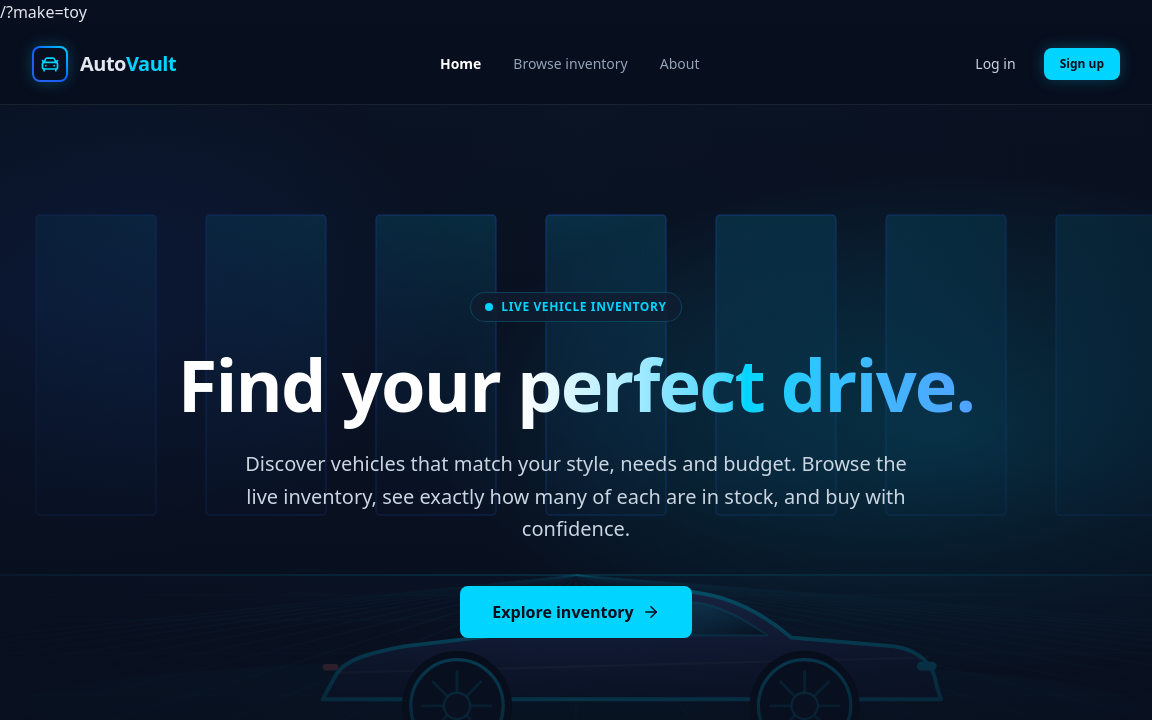
its header › takes the person to the login page and, once they are in, back to where they were
The image size is (1152, 720).
Click the link "Log in" at (995,64), box [975,54,1016,73]
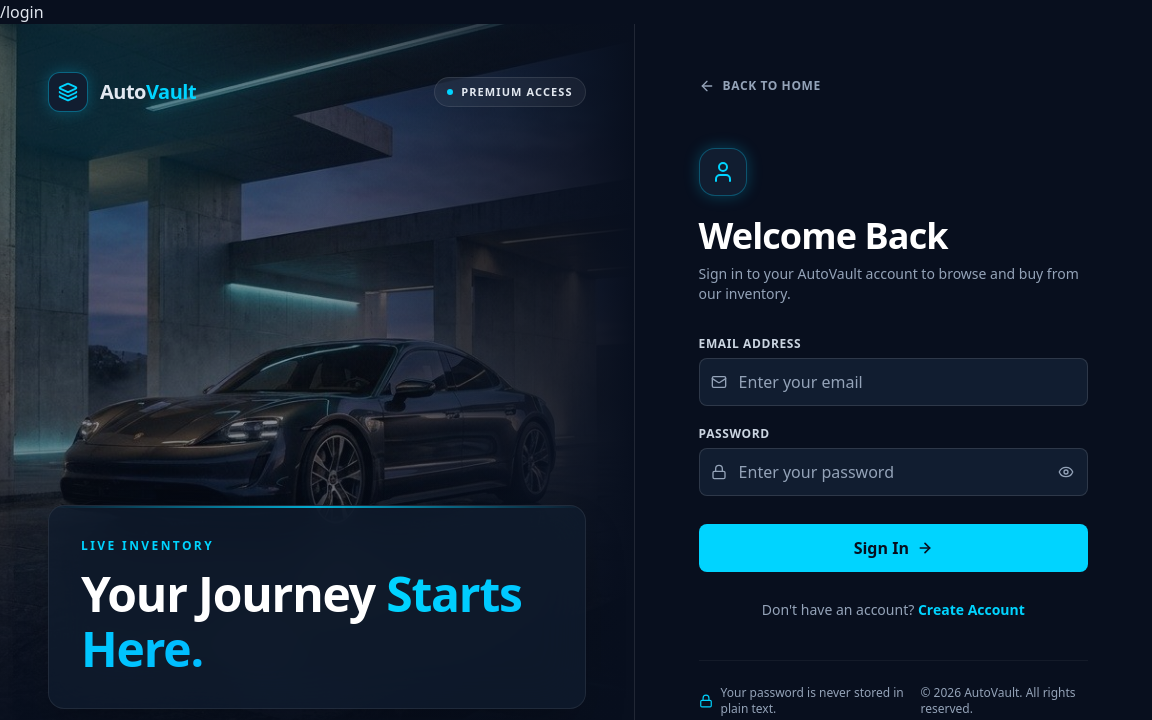
Type "jane@example.com" into the field labelled "Email address" at (893,382), box [699,358,1088,406]
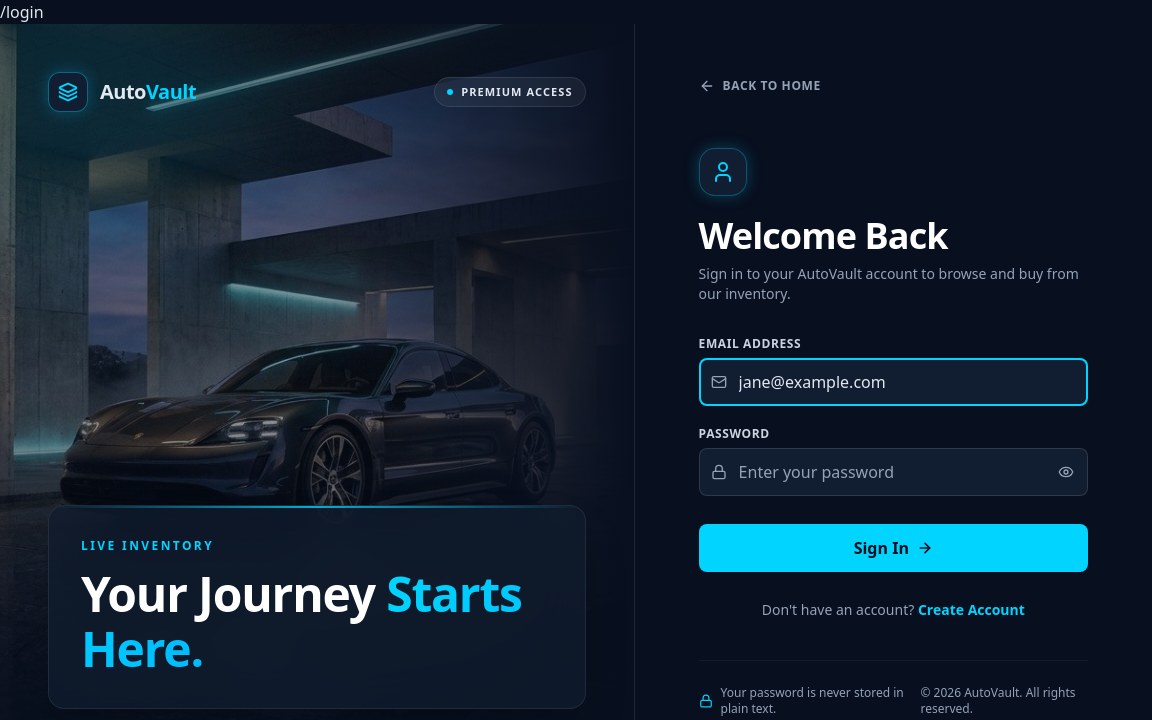
Type "Sup3rSecret!" into the password field labelled "Password" at (893,472), box [699,448,1088,496]
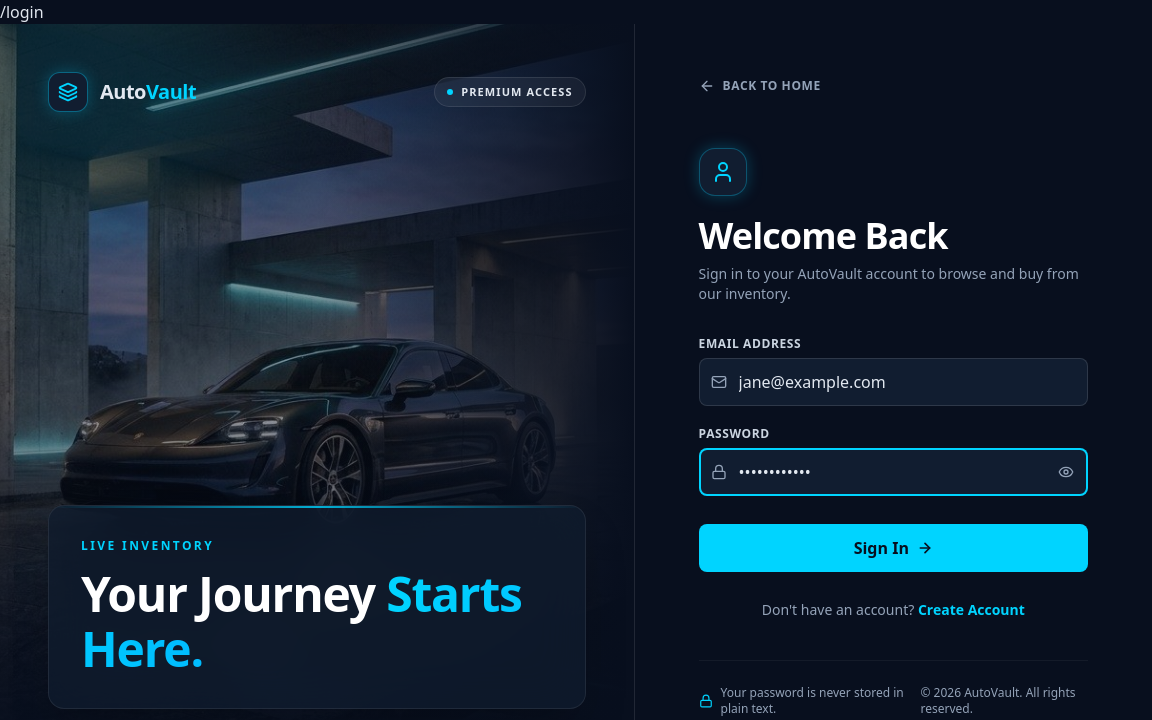
Click the button "Sign In" at (893,548), box [699,524,1088,572]
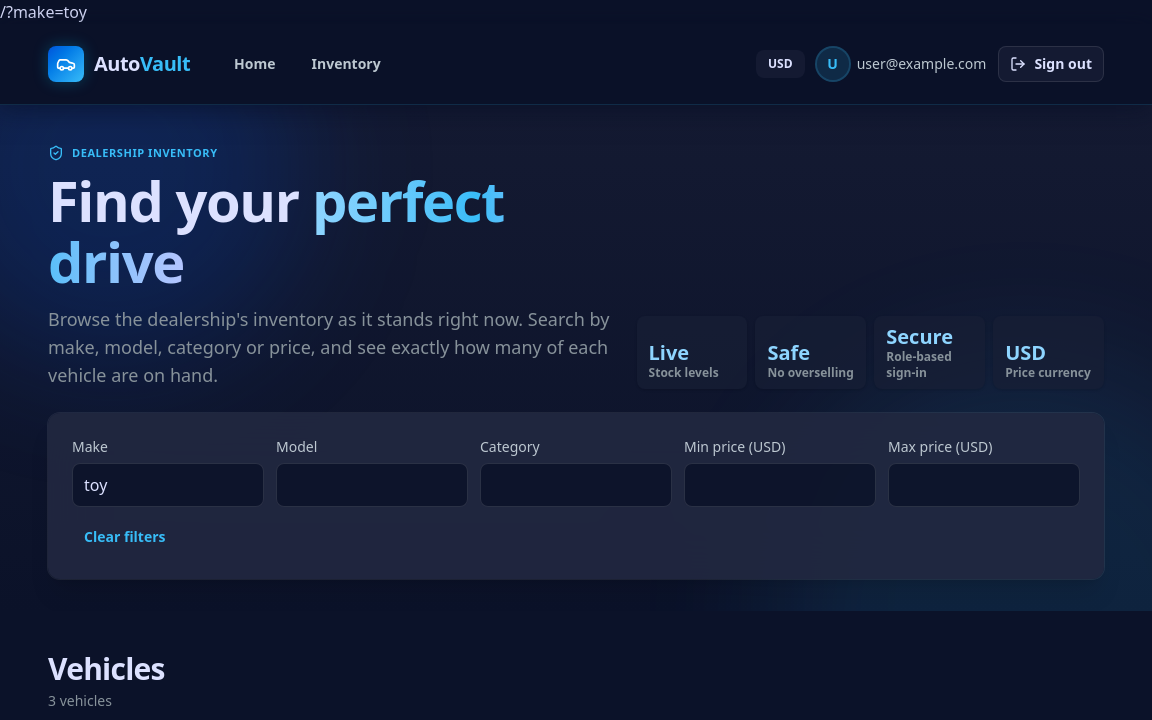
Result: the heading "Vehicles" is shown at [48,651,165,687]
Result: the text with test id "location" reads "/?make=toy" at [0,1,87,23]
